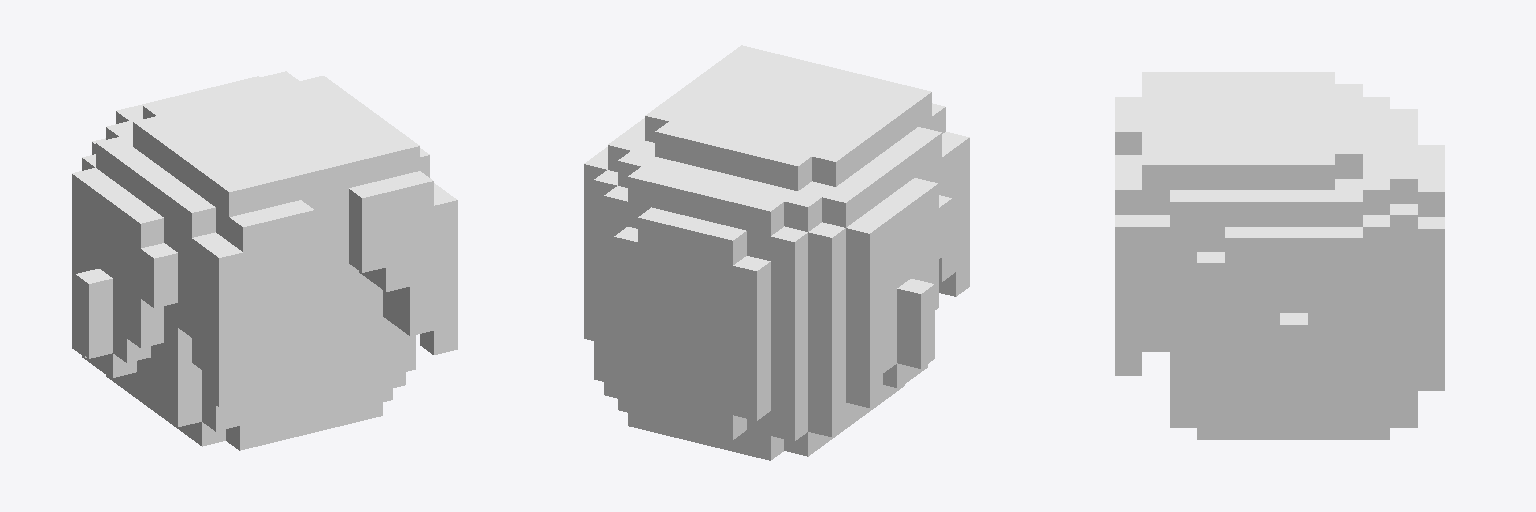
File: humantemplatehead.obj
3 views of the same model, side by side, from view 1: azimuth 30°, elevation 25°; view 2: azimuth 150°, elevation 25°; view 3: azimuth 270°, elevation 25° (orthographic).
Bounding box in the file's own units: 14 × 11 × 12.